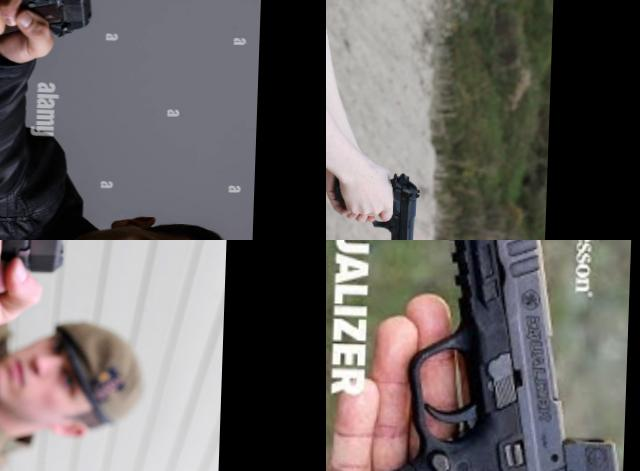handgun: (326, 240, 632, 471), (0, 240, 91, 331), (0, 0, 98, 80), (326, 169, 421, 240)
